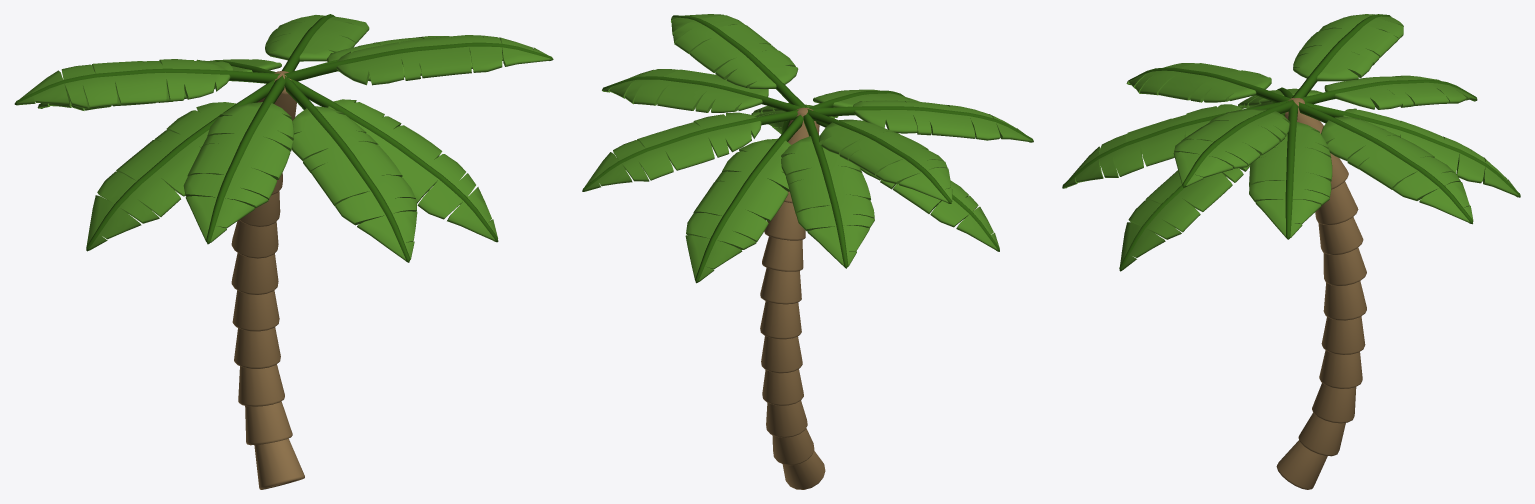
The model's file is palm-tree-1.obj.
3 views of the same model, side by side, from view 1: azimuth 30°, elevation 25°; view 2: azimuth 150°, elevation 25°; view 3: azimuth 270°, elevation 25° (orthographic). The views are drawn at different scales.
Visible parts, largest first — view 1: Leaf_Cylinder.001, Leaf_Cylinder.005, Leaf_Cylinder.006, Leaf_Cylinder.007, Leaf_Cylinder.004, Leaf_Cylinder.002, Leaf_Cylinder.010, StemSegment_StemSegment_Cylinder, Core_Cylinder, StemSegment.001_StemSegment_Cylinder.001, StemSegment.002_StemSegment_Cylinder.002, Core_Cylinder.003 (+12 smaller); view 2: Leaf_Cylinder.009, Leaf_Cylinder.008, Leaf_Cylinder.010, Leaf_Cylinder.002, Leaf_Cylinder.007, Leaf_Cylinder.003, Leaf_Cylinder.005, Leaf_Cylinder.006, Core_Cylinder.008, StemSegment.009_StemSegment_Cylinder.009, StemSegment.008_StemSegment_Cylinder.008, StemSegment.010_StemSegment_Cylinder.010 (+13 smaller); view 3: Leaf_Cylinder.010, Leaf_Cylinder.003, Leaf_Cylinder.002, Leaf_Cylinder.004, Leaf_Cylinder.007, Leaf_Cylinder.001, Leaf_Cylinder.005, Leaf_Cylinder.008, Leaf_Cylinder.009, StemSegment_StemSegment_Cylinder, StemSegment.009_StemSegment_Cylinder.009, StemSegment.008_StemSegment_Cylinder.008 (+14 smaller).
Part boxes in pixels (x1=…): Leaf_Cylinder.001: x1=291, y1=106, x2=417, y2=260; Leaf_Cylinder.005: x1=183, y1=102, x2=294, y2=242; Leaf_Cylinder.006: x1=86, y1=102, x2=236, y2=250; Leaf_Cylinder.007: x1=17, y1=59, x2=230, y2=108; Leaf_Cylinder.004: x1=327, y1=99, x2=497, y2=241; Leaf_Cylinder.002: x1=336, y1=35, x2=551, y2=85; Leaf_Cylinder.010: x1=265, y1=15, x2=369, y2=61; StemSegment_StemSegment_Cylinder: x1=254, y1=438, x2=304, y2=489; Core_Cylinder: x1=284, y1=76, x2=410, y2=262; StemSegment.001_StemSegment_Cylinder.001: x1=245, y1=401, x2=292, y2=445; StemSegment.002_StemSegment_Cylinder.002: x1=238, y1=364, x2=284, y2=406; Core_Cylinder.003: x1=291, y1=79, x2=498, y2=242; Leaf_Cylinder.009: x1=685, y1=138, x2=790, y2=281; Leaf_Cylinder.008: x1=781, y1=135, x2=874, y2=266; Leaf_Cylinder.010: x1=584, y1=112, x2=761, y2=191; Leaf_Cylinder.002: x1=671, y1=14, x2=798, y2=89; Leaf_Cylinder.007: x1=819, y1=119, x2=952, y2=202; Leaf_Cylinder.003: x1=602, y1=69, x2=768, y2=112; Leaf_Cylinder.005: x1=853, y1=100, x2=1032, y2=142; Leaf_Cylinder.006: x1=859, y1=167, x2=999, y2=250; Core_Cylinder.008: x1=695, y1=107, x2=807, y2=283; StemSegment.009_StemSegment_Cylinder.009: x1=760, y1=301, x2=801, y2=339; StemSegment.008_StemSegment_Cylinder.008: x1=761, y1=336, x2=802, y2=373; StemSegment.010_StemSegment_Cylinder.010: x1=760, y1=268, x2=801, y2=304; Leaf_Cylinder.010: x1=1321, y1=117, x2=1473, y2=222; Leaf_Cylinder.003: x1=1249, y1=122, x2=1332, y2=237; Leaf_Cylinder.002: x1=1173, y1=109, x2=1290, y2=186; Leaf_Cylinder.004: x1=1120, y1=165, x2=1250, y2=269; Leaf_Cylinder.007: x1=1293, y1=14, x2=1403, y2=81; Leaf_Cylinder.001: x1=1063, y1=104, x2=1241, y2=188; Leaf_Cylinder.005: x1=1126, y1=63, x2=1271, y2=102; Leaf_Cylinder.008: x1=1324, y1=75, x2=1477, y2=109; Leaf_Cylinder.009: x1=1342, y1=108, x2=1519, y2=196; StemSegment_StemSegment_Cylinder: x1=1276, y1=440, x2=1327, y2=489; StemSegment.009_StemSegment_Cylinder.009: x1=1323, y1=281, x2=1366, y2=320; StemSegment.008_StemSegment_Cylinder.008: x1=1321, y1=316, x2=1365, y2=354.
Size of the model in its own units: 3.28 by 3.12 by 3.16.
